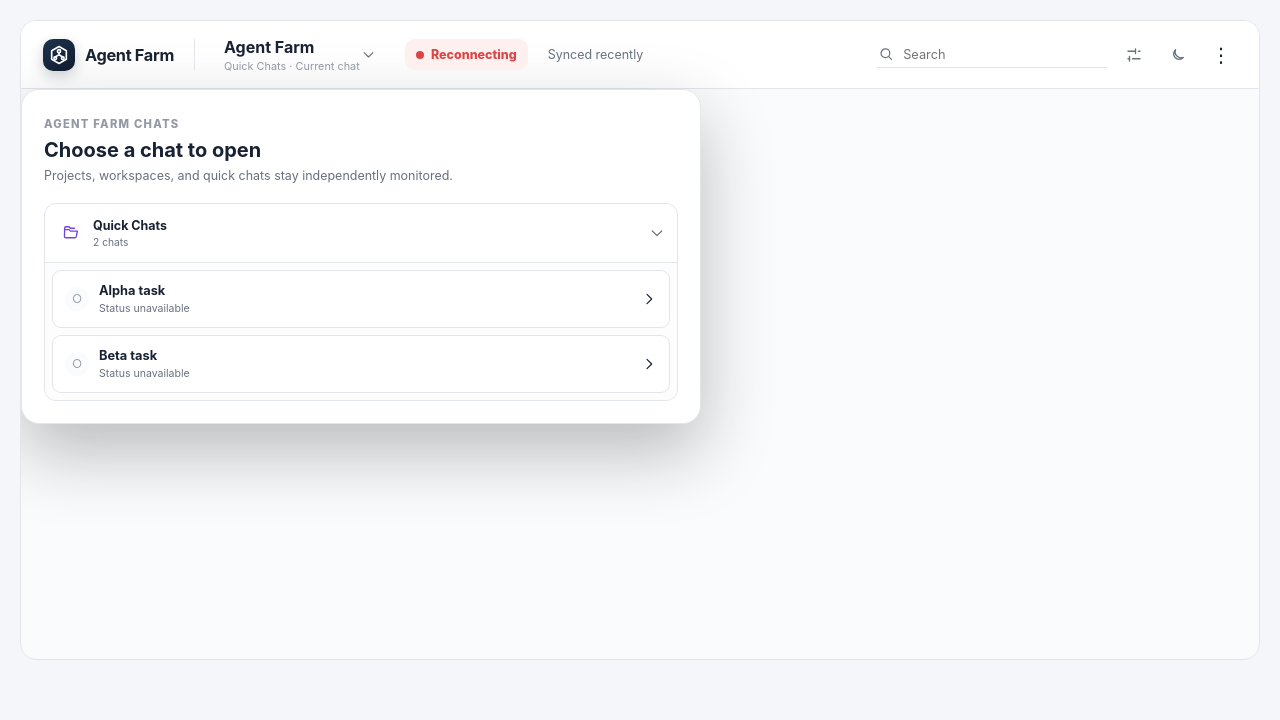
Test: AgentFarmApp › rebuilds only a launcher-managed adapter after an ambiguous local selection
The width and height of the screenshot is (1280, 720).
Click the button "○ Alpha task Status unavailable" at (132, 290), box [52,270,670,328]
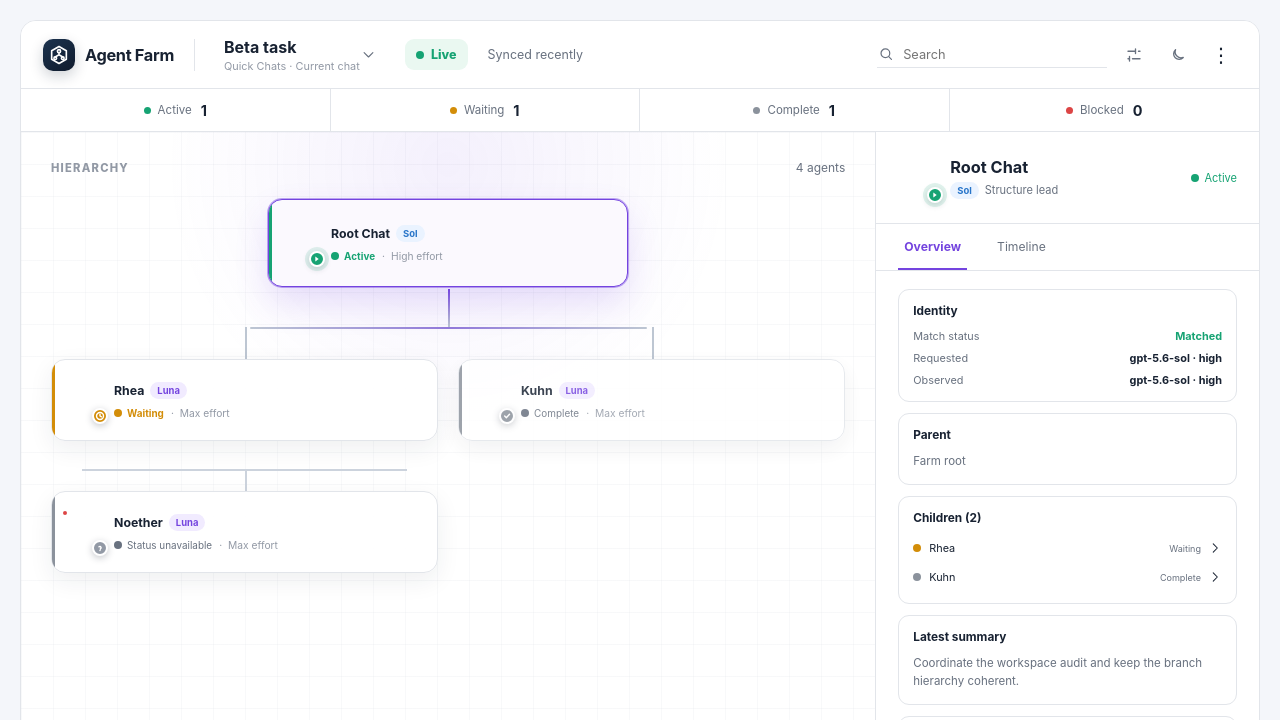
Expected: the button with aria-label "Rhea," is shown, [51,359,438,441]
